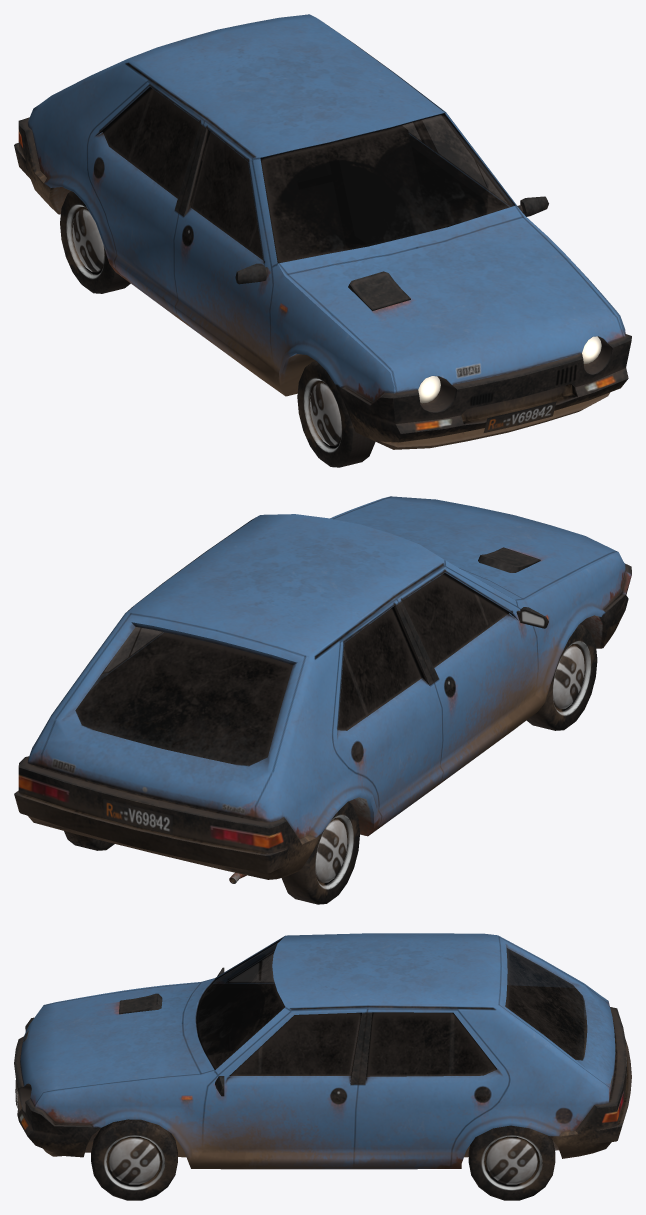
Rendered from fiat-strada.glb.
The picture shows the model from 3 angles, top to bottom: view 1: azimuth 30°, elevation 25°; view 2: azimuth 150°, elevation 25°; view 3: azimuth 270°, elevation 25°; orthographic projection. The views are drawn at different scales.
Parts seen in each view (by area): view 1: Fiat_low, interior_low, wheelsFront_low, wheelBack_low, AirVent_low_02 - Default_0, LicencePlateFront_low_02 - Default_0, headlights_low; view 2: Fiat_low, interior_low, wheelBack_low, wheelsFront_low, AirVent_low_02 - Default_0, LicencePlateBack_low_02 - Default_0; view 3: Fiat_low, interior_low, wheelsFront_low, wheelBack_low, AirVent_low_02 - Default_0.
Boxes of the visible parts, left/top/right/bottom form: Fiat_low: left=14, top=14, right=631, bottom=449; interior_low: left=104, top=88, right=508, bottom=262; wheelsFront_low: left=297, top=361, right=375, bottom=467; wheelBack_low: left=60, top=191, right=130, bottom=293; AirVent_low_02 - Default_0: left=235, top=196, right=548, bottom=310; LicencePlateFront_low_02 - Default_0: left=483, top=401, right=556, bottom=432; headlights_low: left=418, top=336, right=601, bottom=403; Fiat_low: left=14, top=496, right=631, bottom=879; interior_low: left=75, top=573, right=507, bottom=765; wheelBack_low: left=64, top=801, right=359, bottom=904; wheelsFront_low: left=526, top=624, right=597, bottom=730; AirVent_low_02 - Default_0: left=478, top=547, right=548, bottom=628; LicencePlateBack_low_02 - Default_0: left=103, top=799, right=172, bottom=834; Fiat_low: left=14, top=933, right=631, bottom=1169; interior_low: left=197, top=984, right=583, bottom=1075; wheelsFront_low: left=91, top=1119, right=177, bottom=1200; wheelBack_low: left=468, top=1125, right=555, bottom=1200; AirVent_low_02 - Default_0: left=119, top=967, right=224, bottom=1096.
Size of the model in its own units: 18.9 by 13.99 by 40.89.
Materials: 1 (1 with a texture image).
